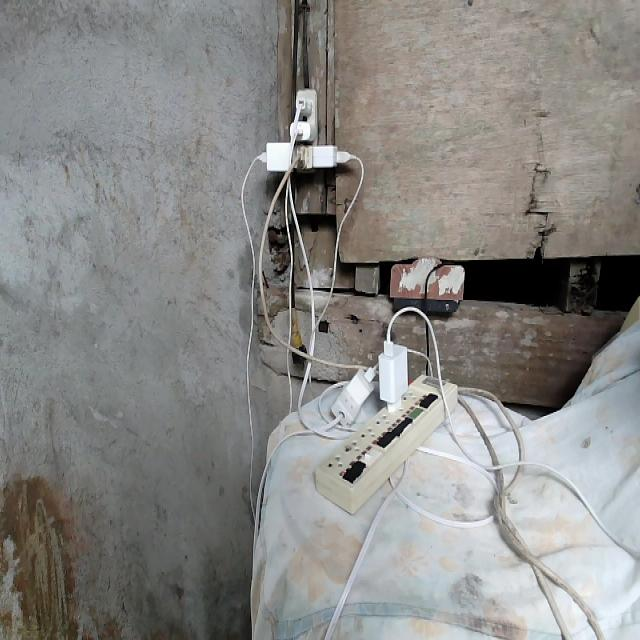-: (251, 87, 357, 176)
